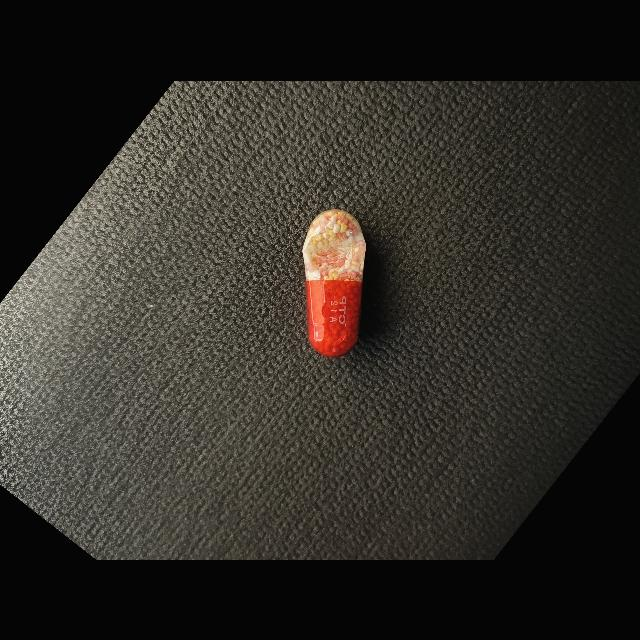Defective Capsule: (302, 208, 366, 356)
